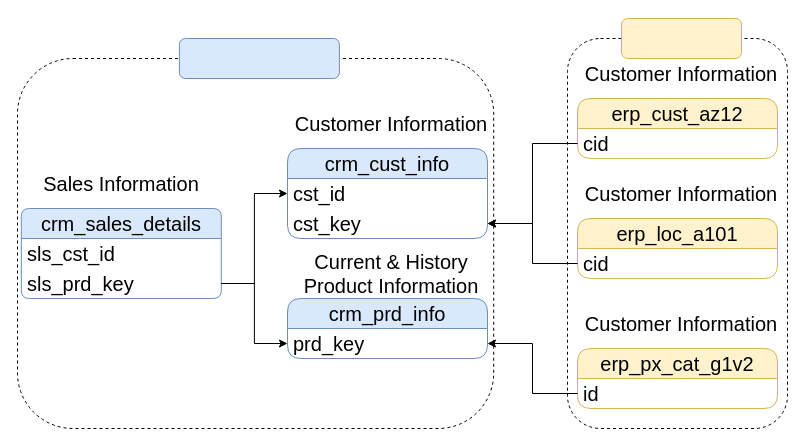
This 805x446 diagram has some shape labels left out. The shapes that lost their labels are listed below. From the top down, each one's centre as x and y in pixels, then its label:
the point at 258,58: CRM
the point at 681,38: ERP
